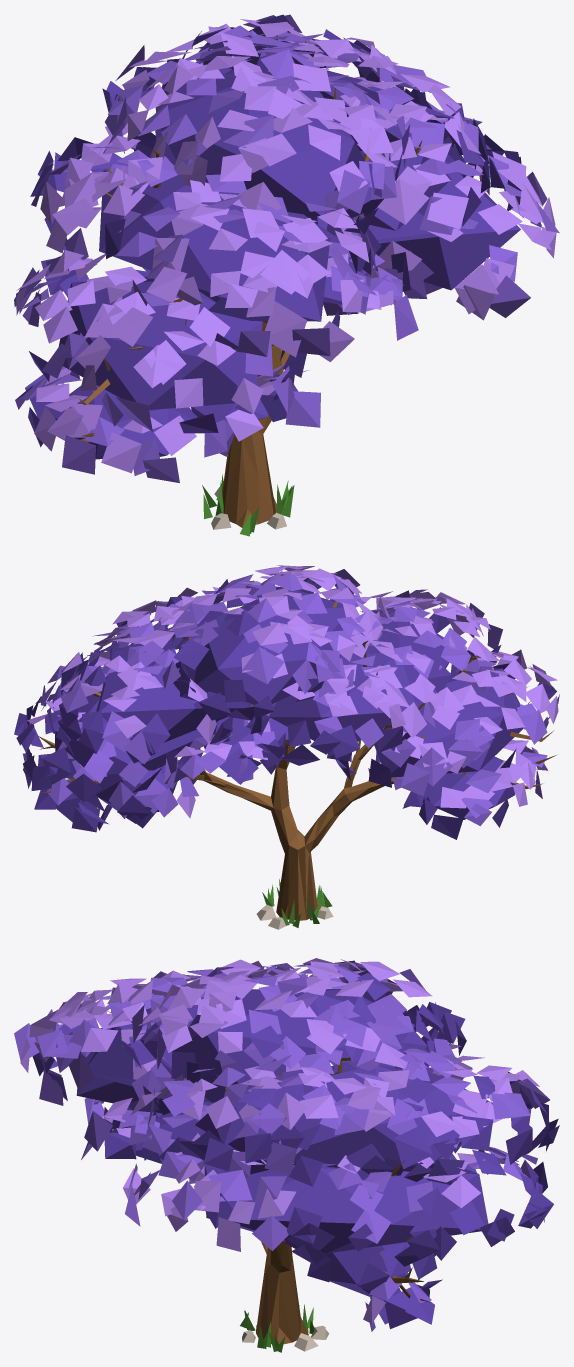
The model's file is jacaranda_3_bloom.glb.
3 views of the same model, one above another, from view 1: azimuth 30°, elevation 25°; view 2: azimuth 150°, elevation 25°; view 3: azimuth 270°, elevation 25° (orthographic). The views are drawn at different scales.
Parts seen in each view (by area): view 1: jacaranda_3_bloom; view 2: jacaranda_3_bloom; view 3: jacaranda_3_bloom.
Part boxes in pixels (left/top/right/bottom): jacaranda_3_bloom: left=14, top=14, right=559, bottom=536; jacaranda_3_bloom: left=14, top=565, right=559, bottom=929; jacaranda_3_bloom: left=14, top=958, right=559, bottom=1352.
Size of the model in its own units: 8.78 by 6.64 by 8.72.
